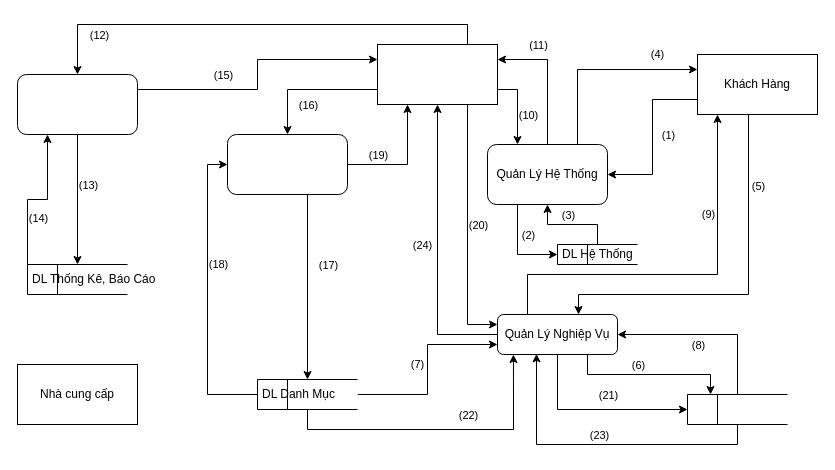
This 835x470 diagram has some shape labels left out. The centre of each missing label's shape, as x and y in pixels:
DL Nghiệp Vụ: the point at 737,409
Nhân Viên: the point at 437,74
Quản Lý Danh Mục: the point at 287,164
Thống Kê, Báo Cáo: the point at 77,104
